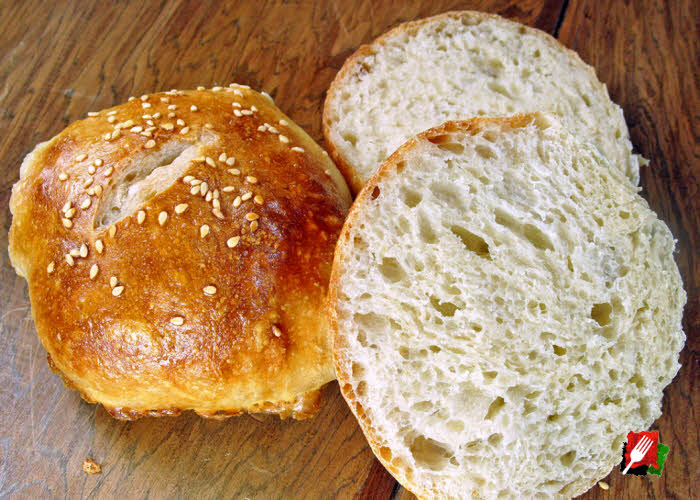hamburger_buns: (25, 57, 686, 467)
